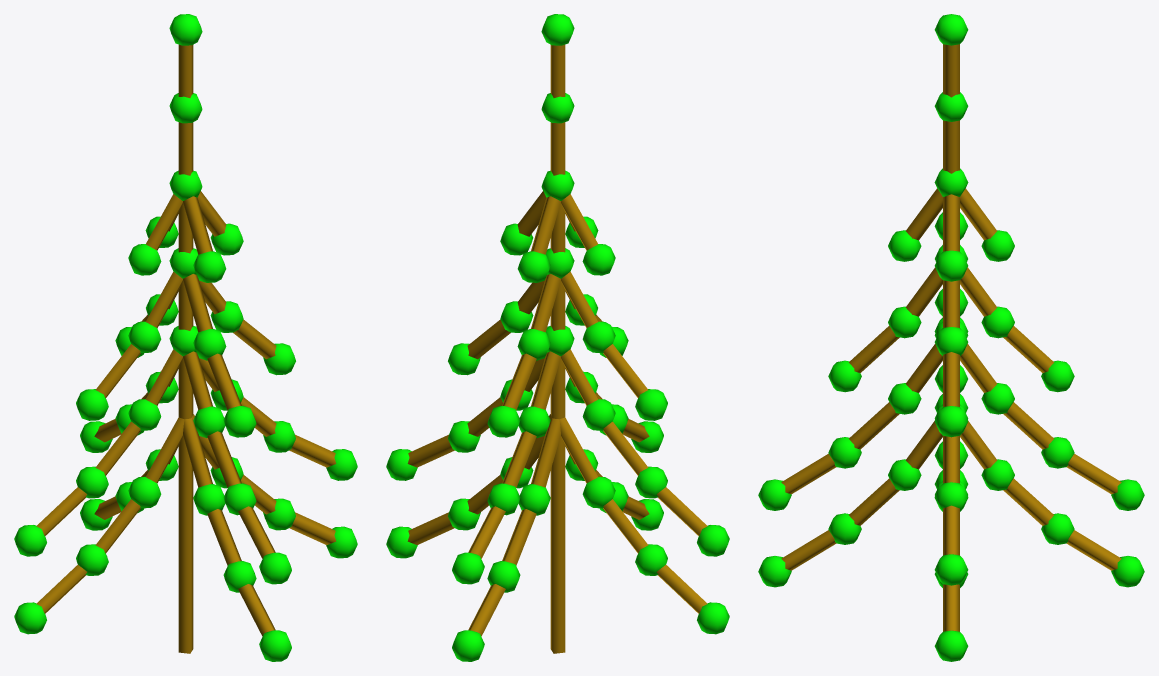
File: spruce.glb
The picture shows the model from 3 angles, left to right: view 1: azimuth 30°, elevation 25°; view 2: azimuth 150°, elevation 25°; view 3: azimuth 270°, elevation 25°; orthographic projection.
Parts seen in each view (by area): view 1: Mesh_0.009; view 2: Mesh_0.009; view 3: Mesh_0.009.
Boxes of the visible parts, bbox=[...] form: Mesh_0.009: bbox=[14, 14, 357, 661]; Mesh_0.009: bbox=[386, 14, 729, 661]; Mesh_0.009: bbox=[758, 14, 1144, 661].
Size of the model in its own units: 45.88 by 82 by 45.88.
